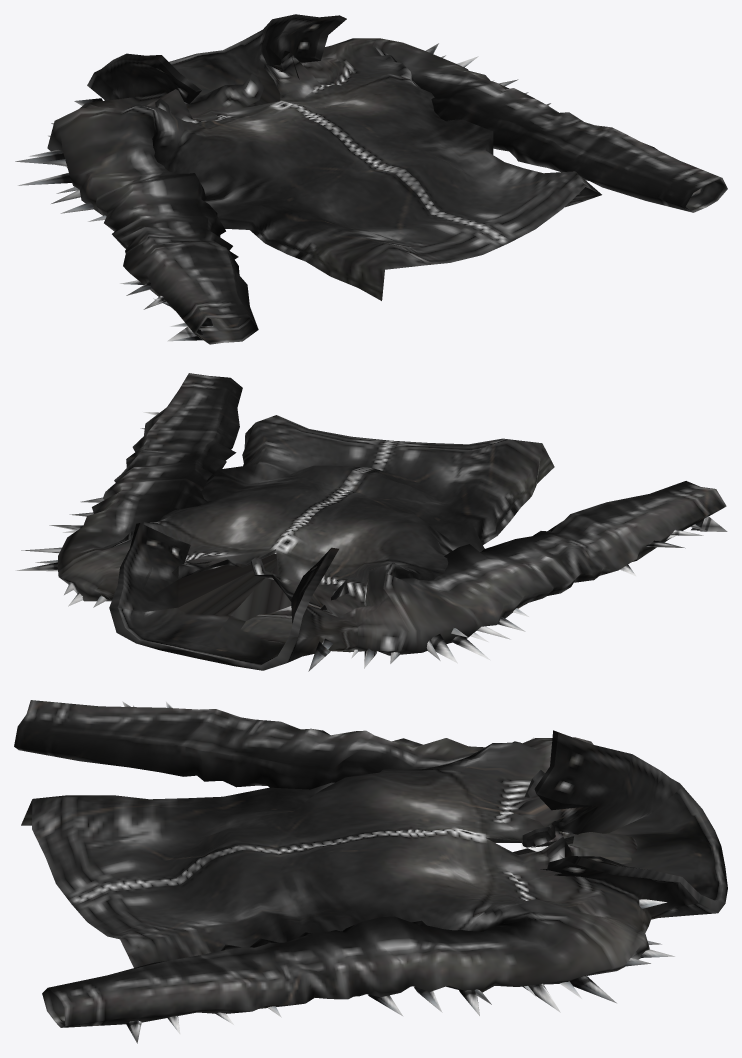
File: LeatherJacketTW_Ground.fbx
3 views of the same model, one above another, from view 1: azimuth 30°, elevation 25°; view 2: azimuth 150°, elevation 25°; view 3: azimuth 270°, elevation 25° (orthographic). The views are drawn at different scales.
Visible parts, largest first — view 1: G_Leatherjacket; view 2: G_Leatherjacket; view 3: G_Leatherjacket.
Boxes of the visible parts, bbox=[...] form: G_Leatherjacket: bbox=[15, 14, 727, 344]; G_Leatherjacket: bbox=[15, 373, 727, 671]; G_Leatherjacket: bbox=[14, 700, 727, 1043].
Bounding box in the file's own units: 0.3812 × 0.0566 × 0.3444.
